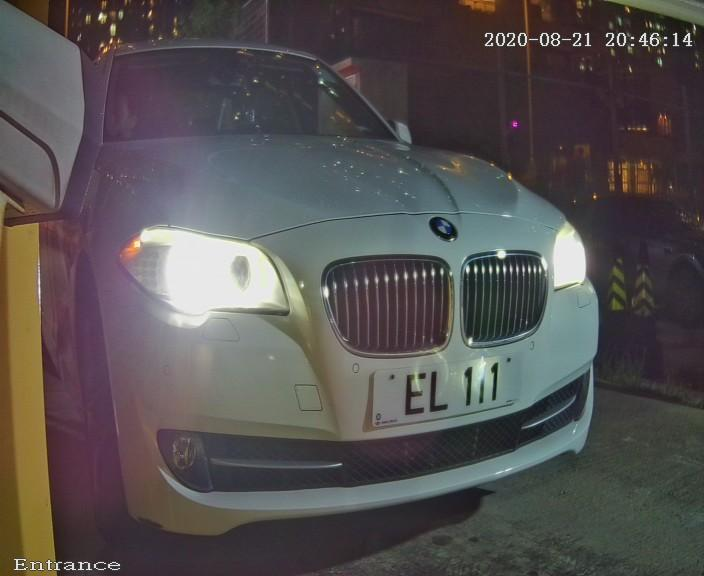Car: (4, 1, 670, 561)
License Plate: (356, 337, 525, 435)
